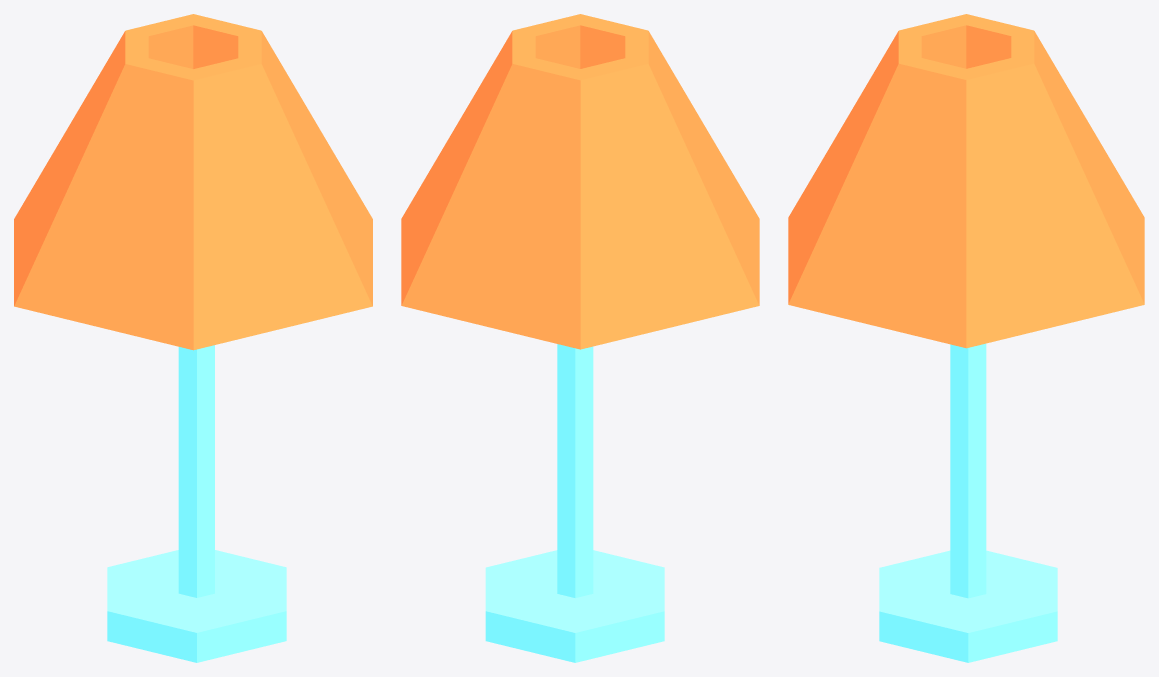
Rendered from Lamp.fbx.
The picture shows the model from 3 angles, left to right: view 1: azimuth 30°, elevation 25°; view 2: azimuth 150°, elevation 25°; view 3: azimuth 270°, elevation 25°; orthographic projection.
Visible parts, largest first — view 1: Lamp; view 2: Lamp; view 3: Lamp.
Boxes of the visible parts, box(x1,y1,x2,y2) form: Lamp: box(14, 14, 372, 662); Lamp: box(401, 14, 759, 662); Lamp: box(788, 14, 1144, 662).
Bounding box in the file's own units: 200 × 306 × 173.
